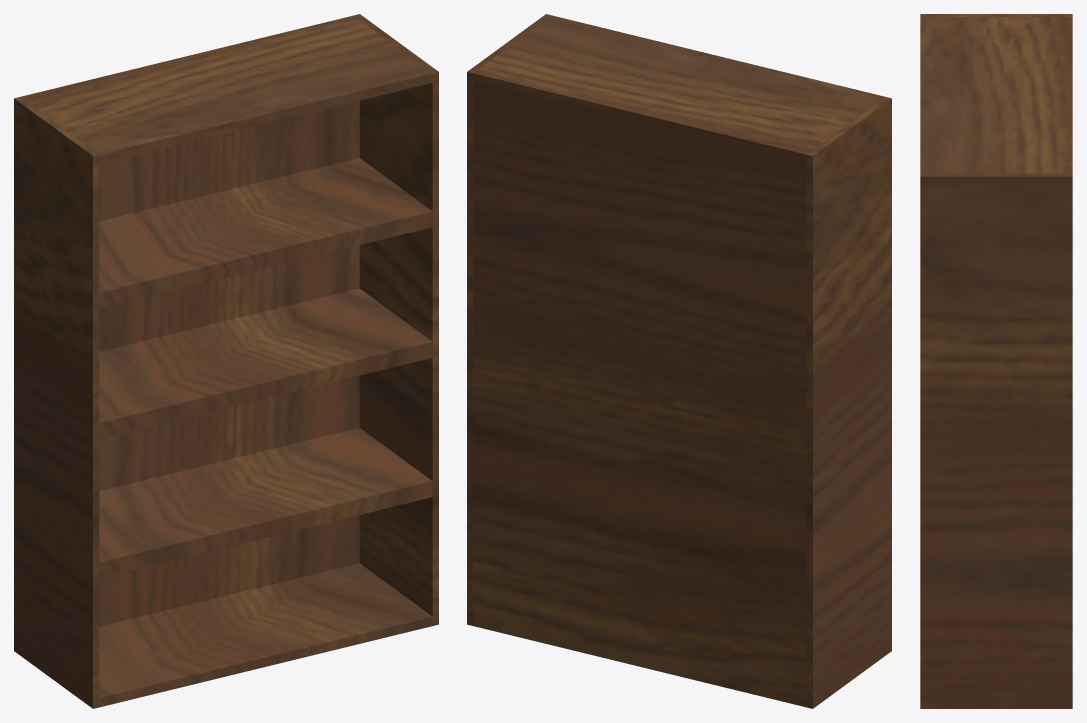
The model's file is Shelf.fbx.
3 views of the same model, side by side, from view 1: azimuth 30°, elevation 25°; view 2: azimuth 150°, elevation 25°; view 3: azimuth 270°, elevation 25° (orthographic). The views are drawn at different scales.
Visible parts, largest first — view 1: RT_IP_Furniture:Shelf, RT_IP_Furniture:pShelfWall, RT_IP_Furniture:pShelfWall1; view 2: RT_IP_Furniture:Shelf, RT_IP_Furniture:pShelfWall, RT_IP_Furniture:pShelfWall1; view 3: RT_IP_Furniture:pShelfWall1, RT_IP_Furniture:Shelf, RT_IP_Furniture:pShelfWall.
Boxes of the visible parts, x1,y1,x2,y2 form: RT_IP_Furniture:Shelf: [20, 15, 432, 707]; RT_IP_Furniture:pShelfWall: [14, 97, 99, 708]; RT_IP_Furniture:pShelfWall1: [354, 14, 438, 625]; RT_IP_Furniture:Shelf: [473, 15, 885, 707]; RT_IP_Furniture:pShelfWall: [806, 97, 891, 708]; RT_IP_Furniture:pShelfWall1: [467, 14, 551, 625]; RT_IP_Furniture:pShelfWall1: [920, 173, 1072, 708]; RT_IP_Furniture:Shelf: [920, 17, 1072, 173]; RT_IP_Furniture:pShelfWall: [920, 14, 1072, 16].
Size of the model in its own units: 1.51 by 2.3 by 0.5961.
